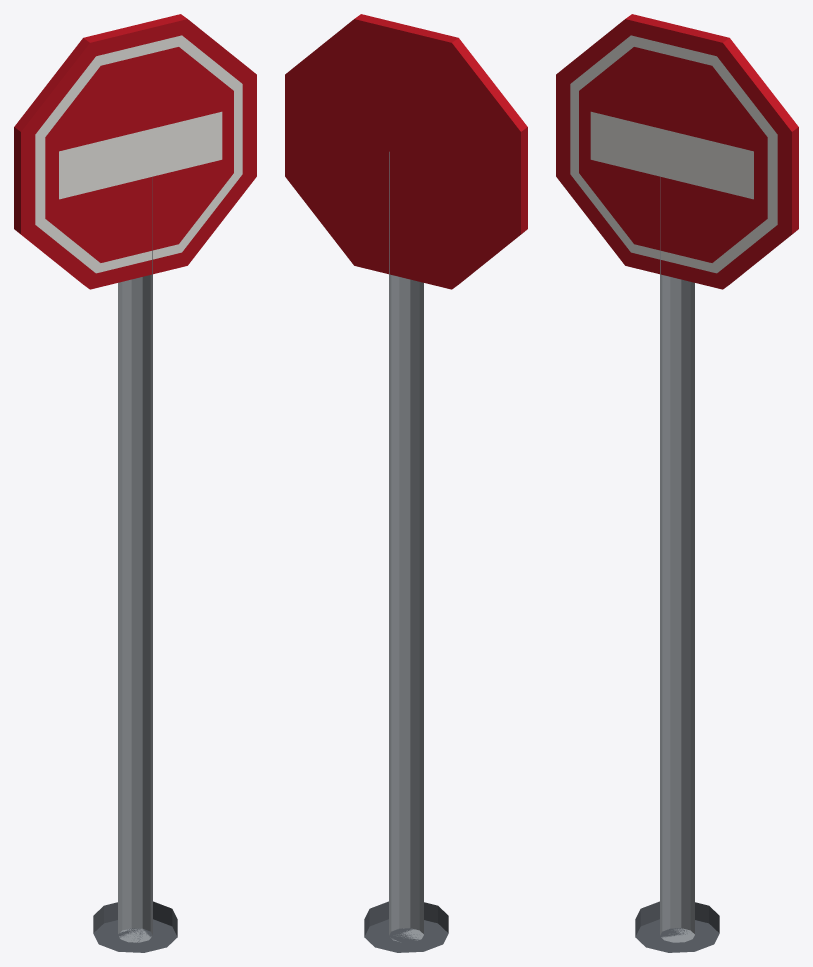
The model's file is sign-stop.glb.
3 renders of one model, left to right at view 1: azimuth 30°, elevation 25°; view 2: azimuth 150°, elevation 25°; view 3: azimuth 330°, elevation 25°, orthographic.
Visible parts, largest first — view 1: sign-stop; view 2: sign-stop; view 3: sign-stop.
Part boxes in pixels (x1,y1,x2,y2): sign-stop: [14, 14, 256, 952]; sign-stop: [285, 14, 527, 952]; sign-stop: [556, 14, 798, 952].
Size of the model in its own units: 0.6929 by 2.55 by 0.2054.
